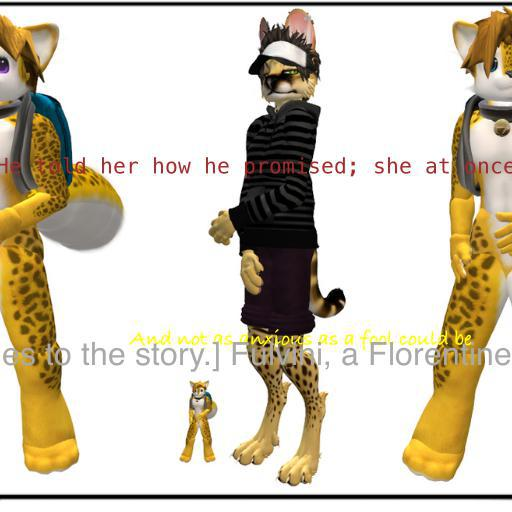Bradley Hand: (130, 329, 472, 351)
Menlo: (0, 157, 512, 178)
SF Pro: (0, 341, 512, 372)
